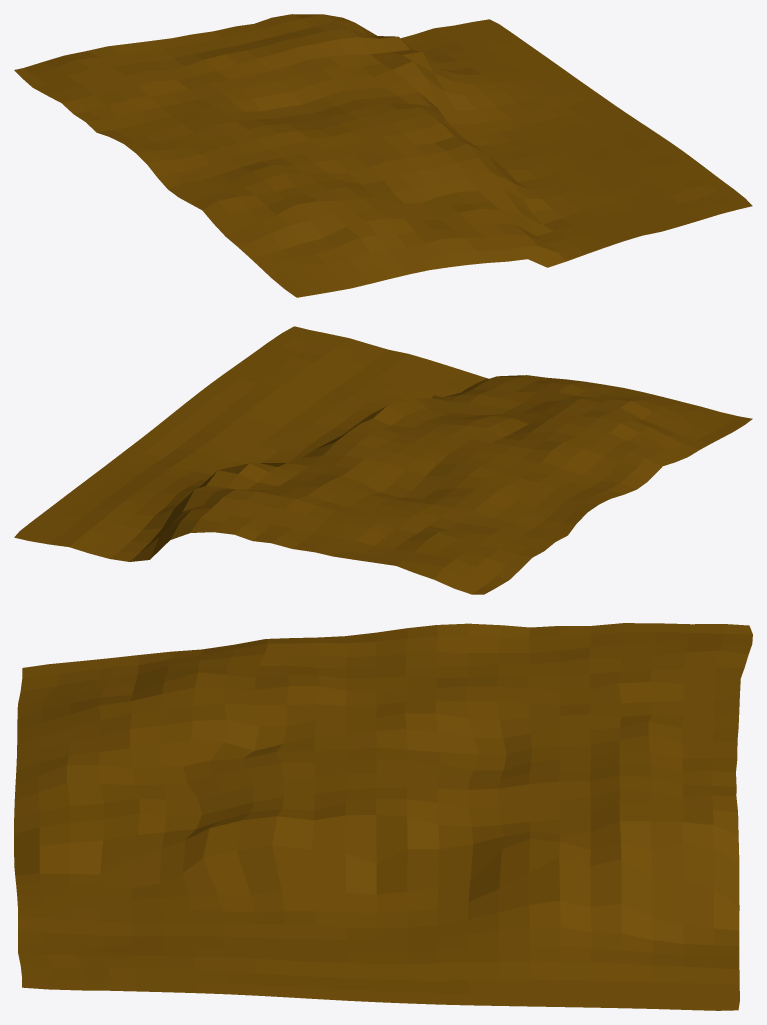
Rendered from Terrain1.glb.
3 renders of one model, top to bottom at view 1: azimuth 30°, elevation 25°; view 2: azimuth 150°, elevation 25°; view 3: azimuth 270°, elevation 25°, orthographic. The views are drawn at different scales.
Visible parts, largest first — view 1: Landscape; view 2: Landscape; view 3: Landscape.
Boxes of the visible parts, left/top/right/bottom form: Landscape: left=14, top=14, right=752, bottom=297; Landscape: left=14, top=326, right=752, bottom=594; Landscape: left=14, top=623, right=752, bottom=1010.
Bounding box in the file's own units: 1.98 × 0.2667 × 2.01.
